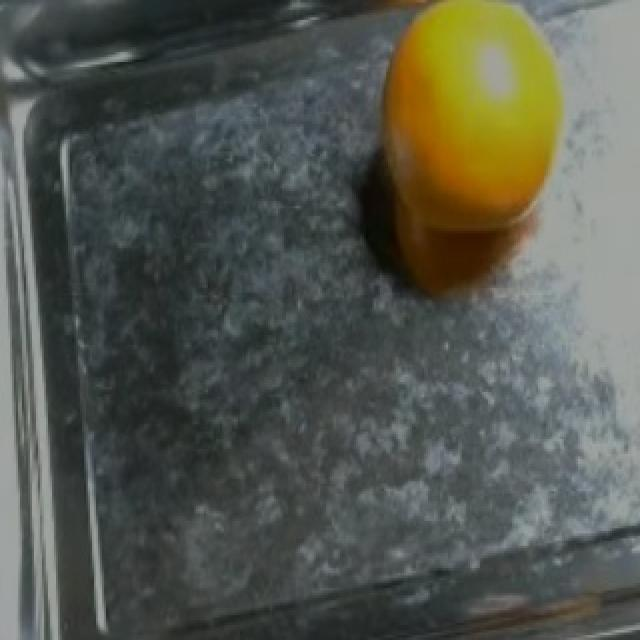Fruit: (338, 2, 588, 286)
